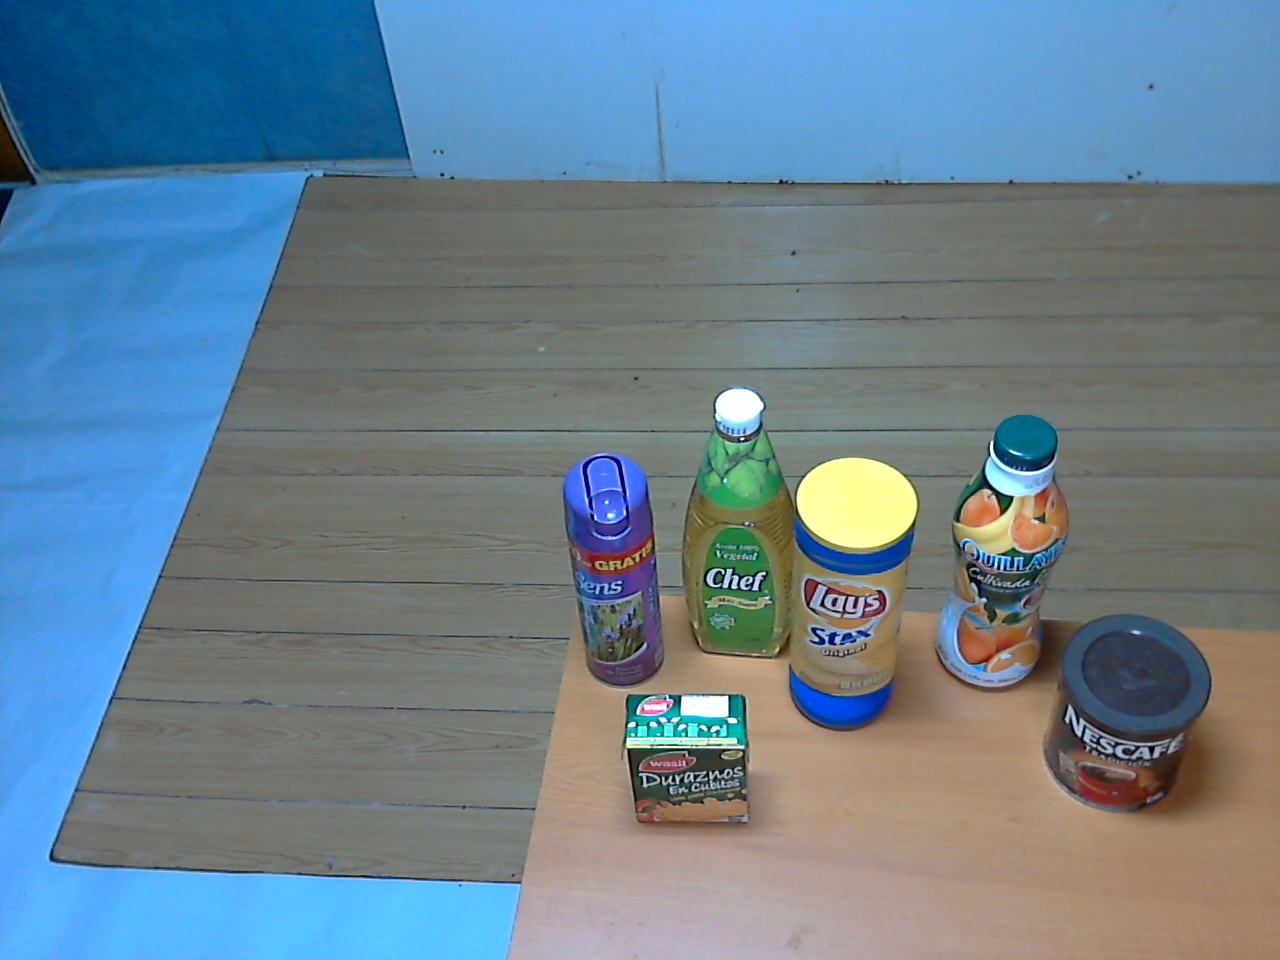aceite: (670, 388, 799, 669)
aerosol: (554, 444, 674, 691)
cafe: (1030, 607, 1210, 820)
durazno: (608, 682, 764, 844)
papas: (785, 453, 921, 736)
yogurt: (932, 413, 1077, 694)
